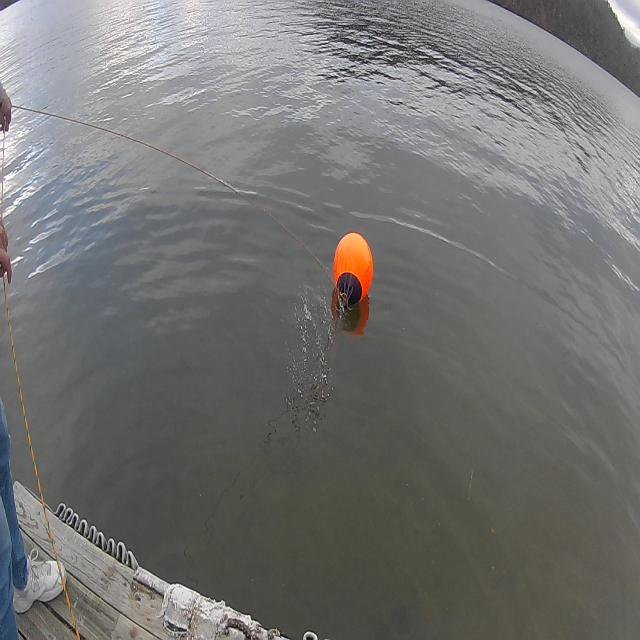Buoy: (330, 224, 378, 320)
